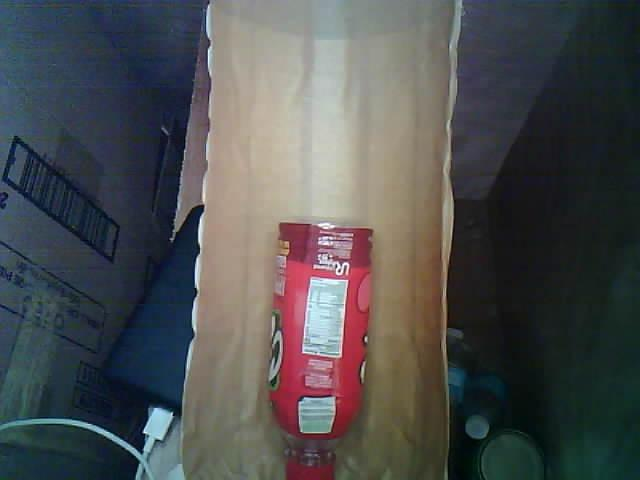small_bottle: (236, 190, 403, 480)
